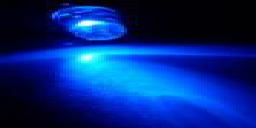LED: (52, 4, 127, 44)
